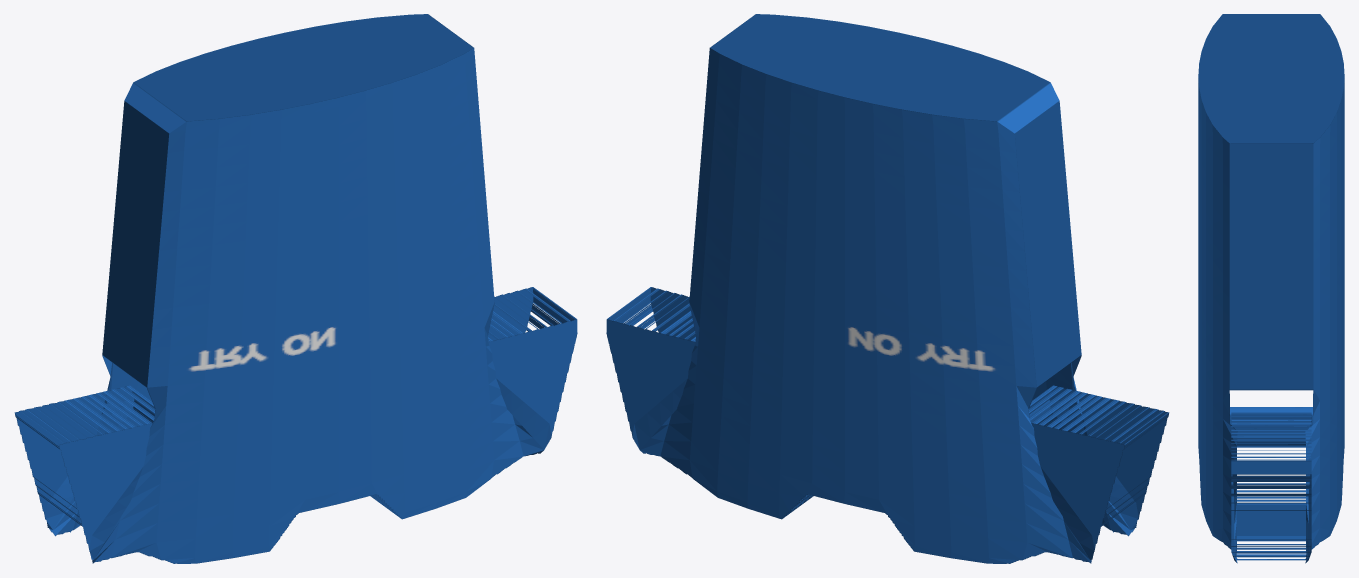
The model's file is shirt.obj.
The picture shows the model from 3 angles, left to right: view 1: azimuth 30°, elevation 25°; view 2: azimuth 150°, elevation 25°; view 3: azimuth 270°, elevation 25°; orthographic projection. The views are drawn at different scales.
Size of the model in its own units: 0.6572 by 0.5314 by 0.176.
1 material, 1 textured.
